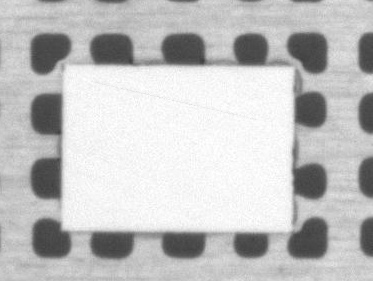DIE_CRACK: (126, 62, 340, 90)
